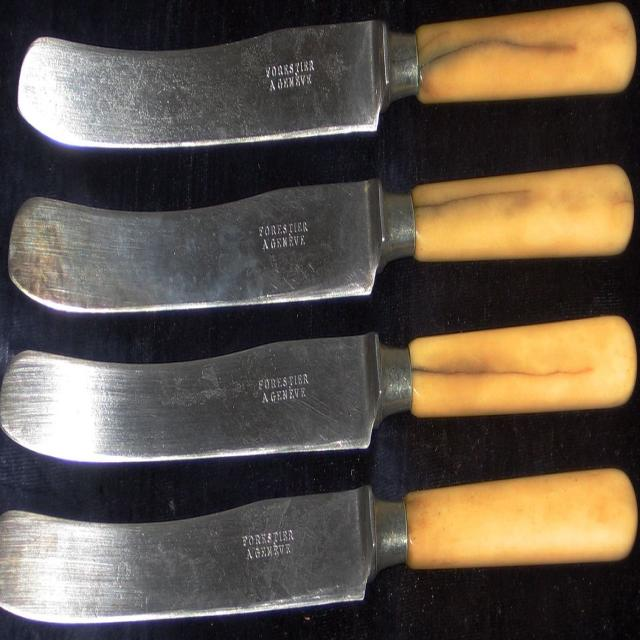Weapon: (0, 469, 637, 623), (0, 317, 636, 463), (8, 166, 633, 312), (18, 3, 636, 147)
